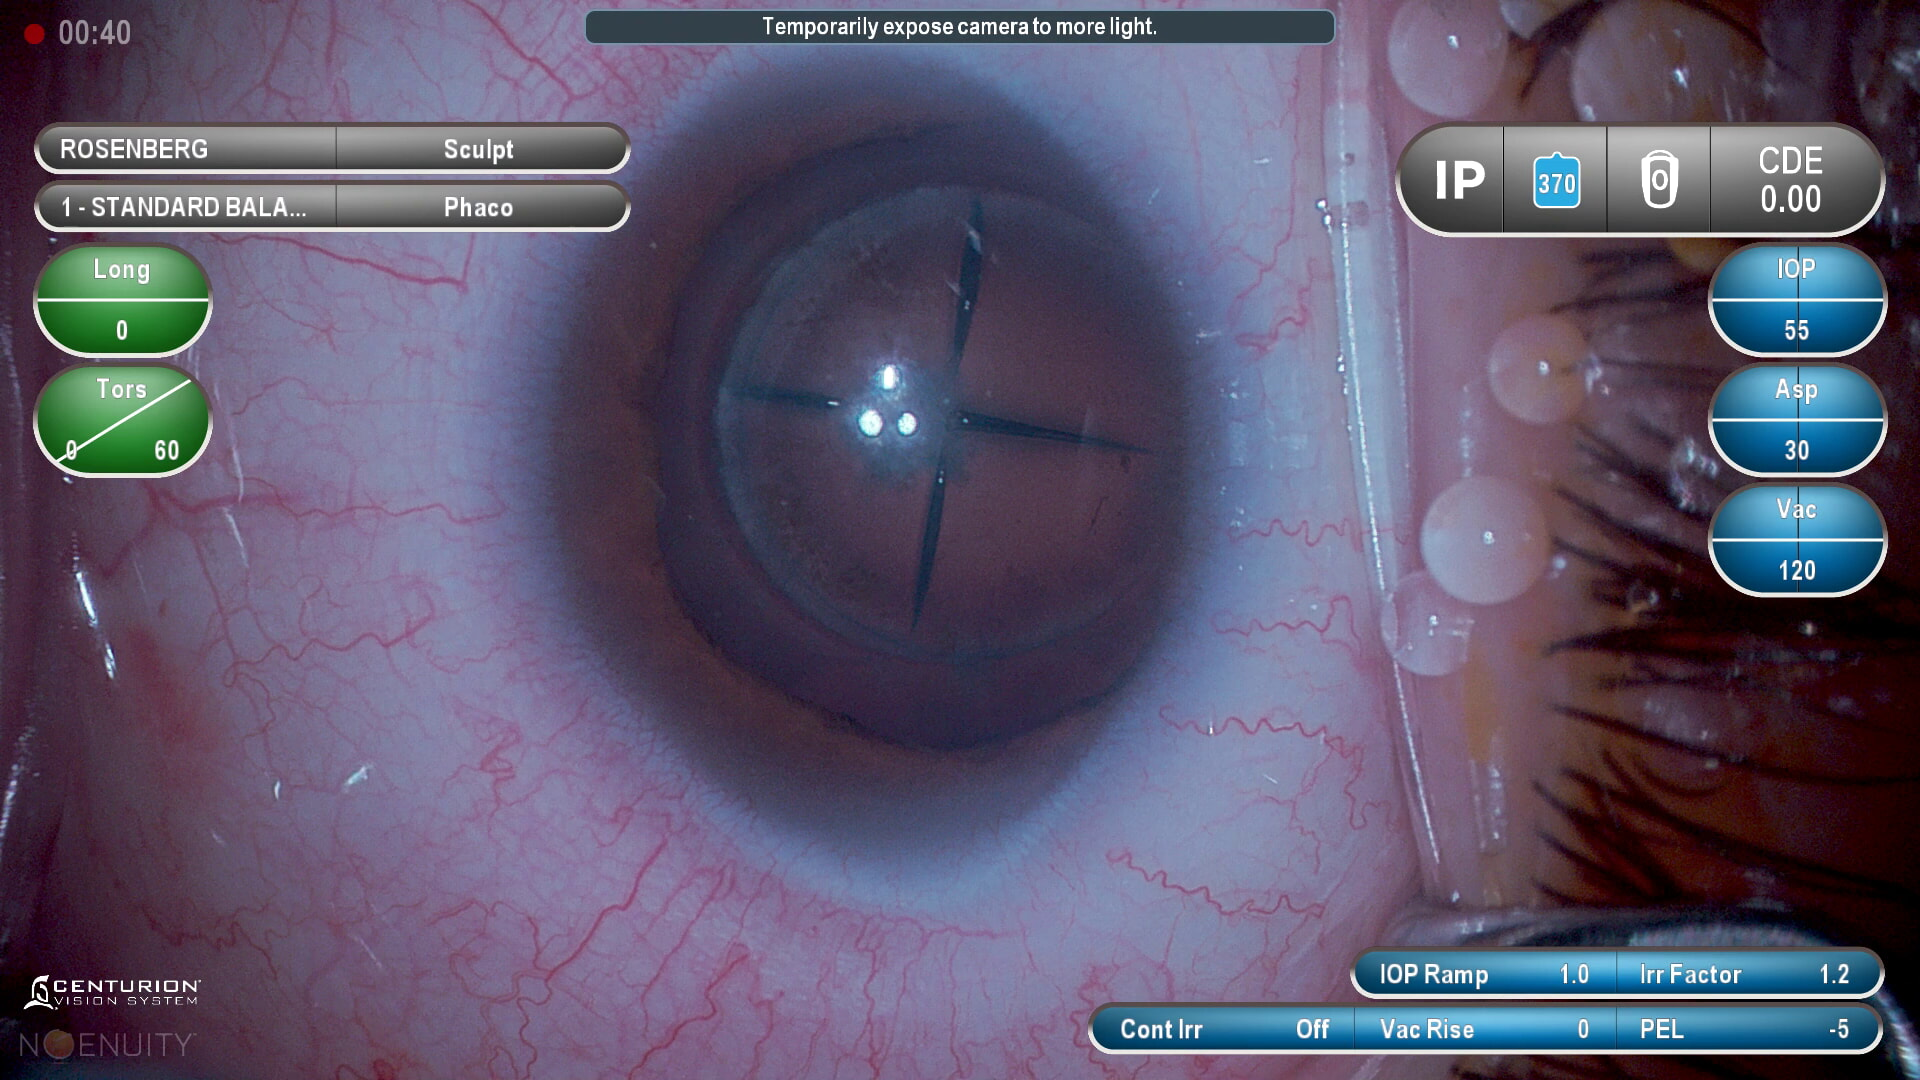iris: (566, 63, 1205, 836)
pupil: (650, 143, 1198, 744)
